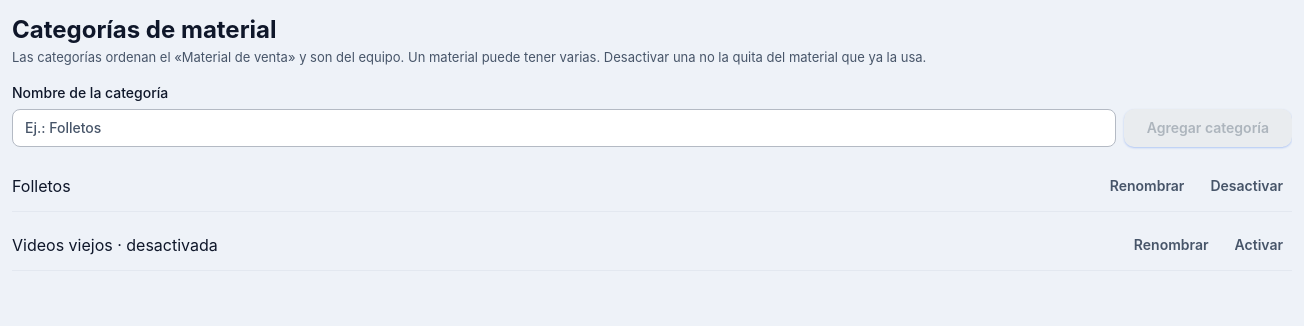
Test case: SalesMaterialCategories › creates a category with a trimmed name and clears the field
This screenshot has width=1304, height=326.
Expected: the text "Folletos" is shown, left=12, top=174, right=71, bottom=198
Expected: the button "Agregar categoría" is disabled, left=1124, top=108, right=1292, bottom=146
Type "  Presentaciones " into the field labelled "Nombre de la categoría".
click(564, 128); type("  Presentaciones ")  # box left=12, top=108, right=1116, bottom=146
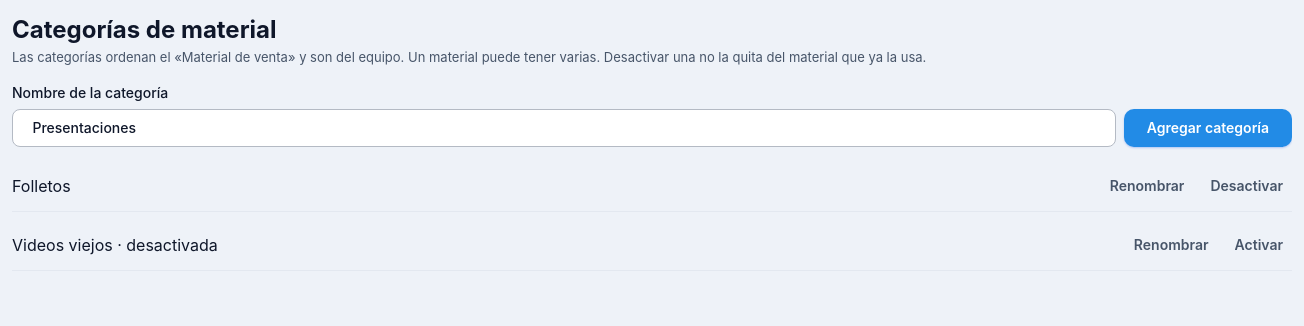
Click the button "Agregar categoría".
click(1208, 128)  # box left=1124, top=108, right=1292, bottom=146
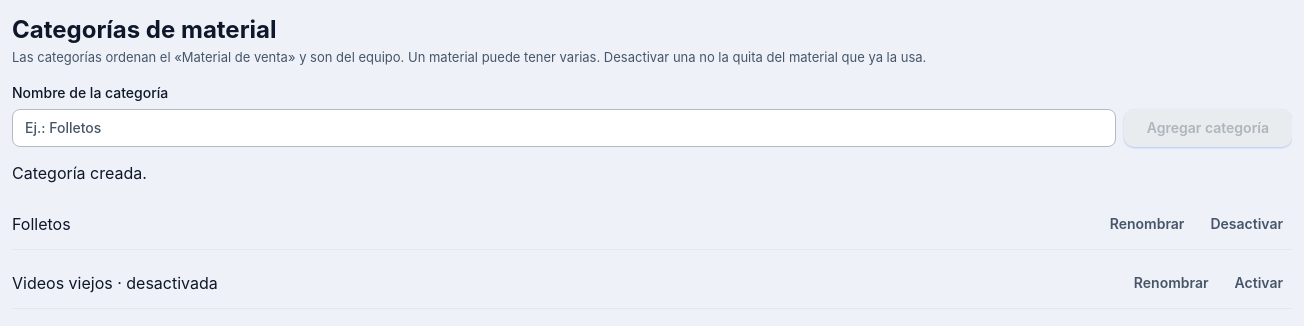
Now the text "Categoría creada." is shown, box left=12, top=162, right=147, bottom=182
Now the field labelled "Nombre de la categoría" is empty, box left=12, top=108, right=1116, bottom=146
